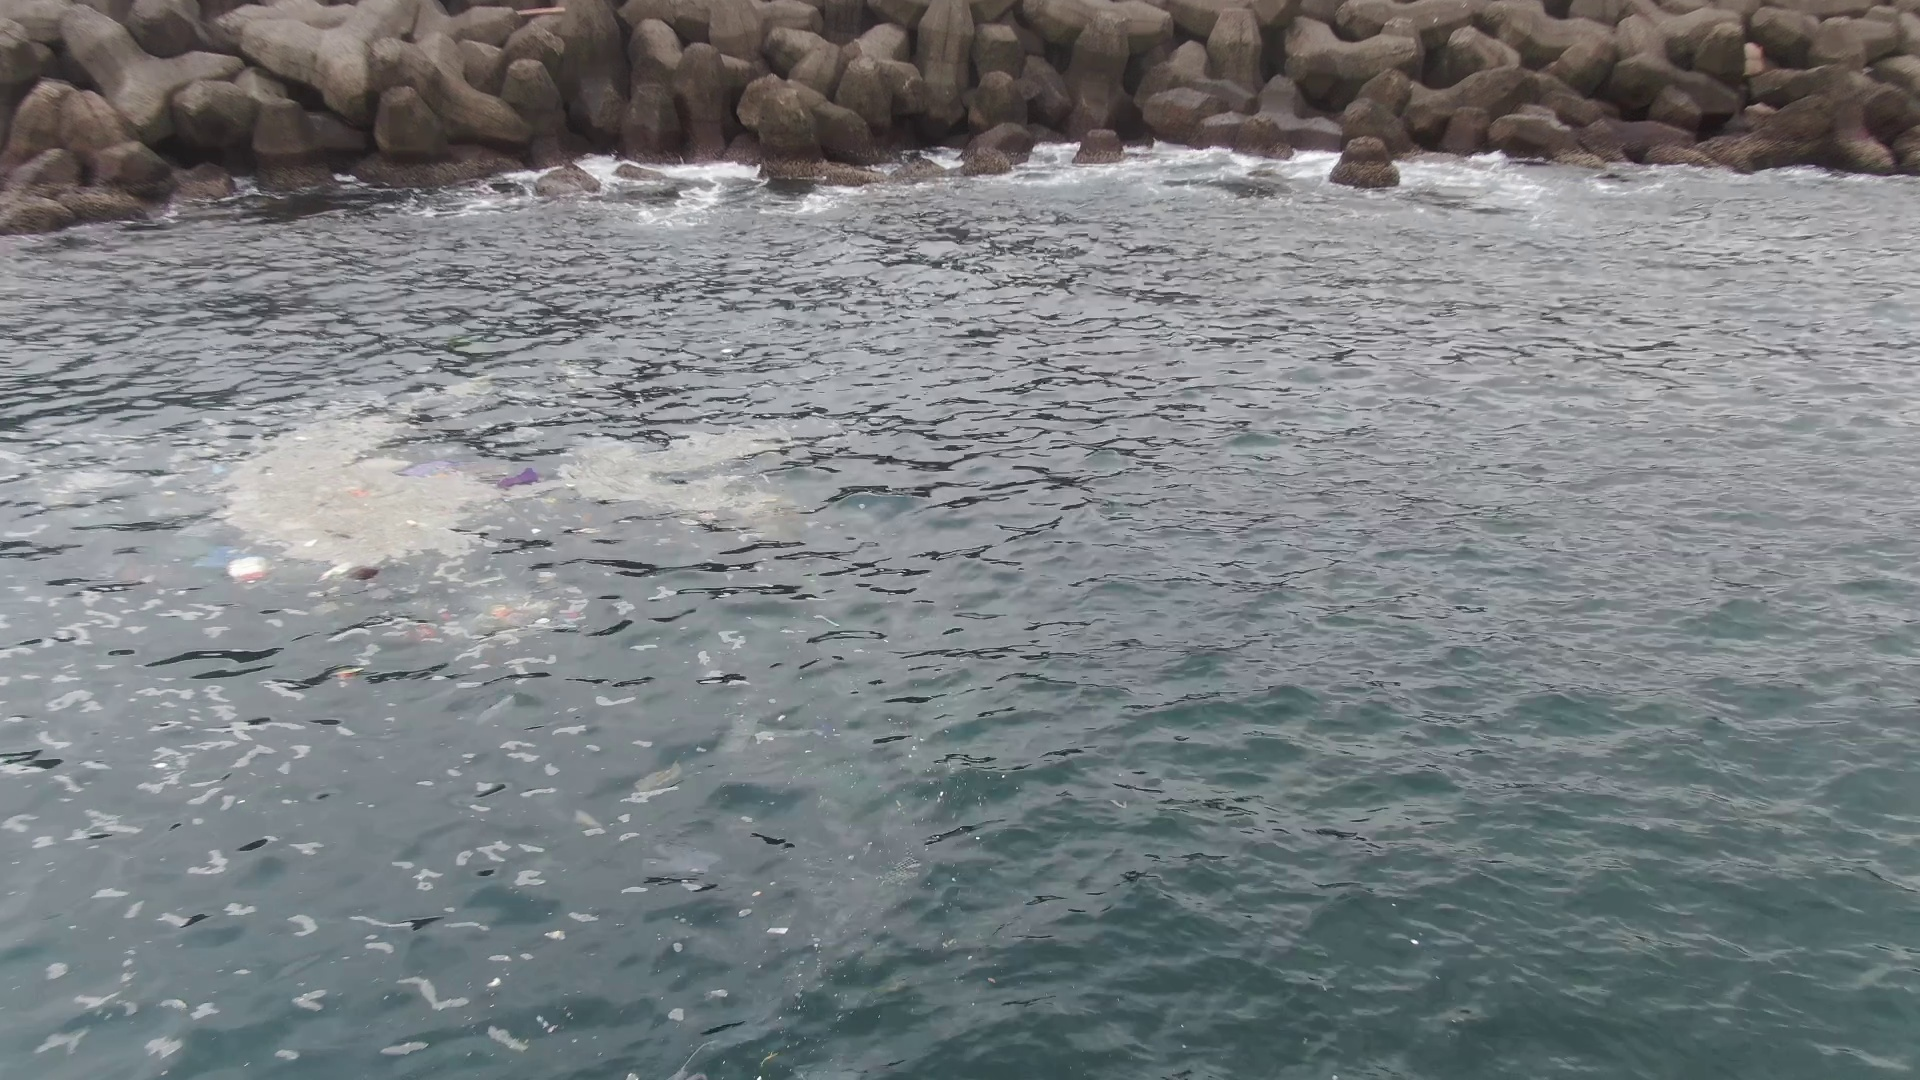garbage: (196, 460, 568, 583), (419, 593, 575, 642), (336, 654, 367, 684)
